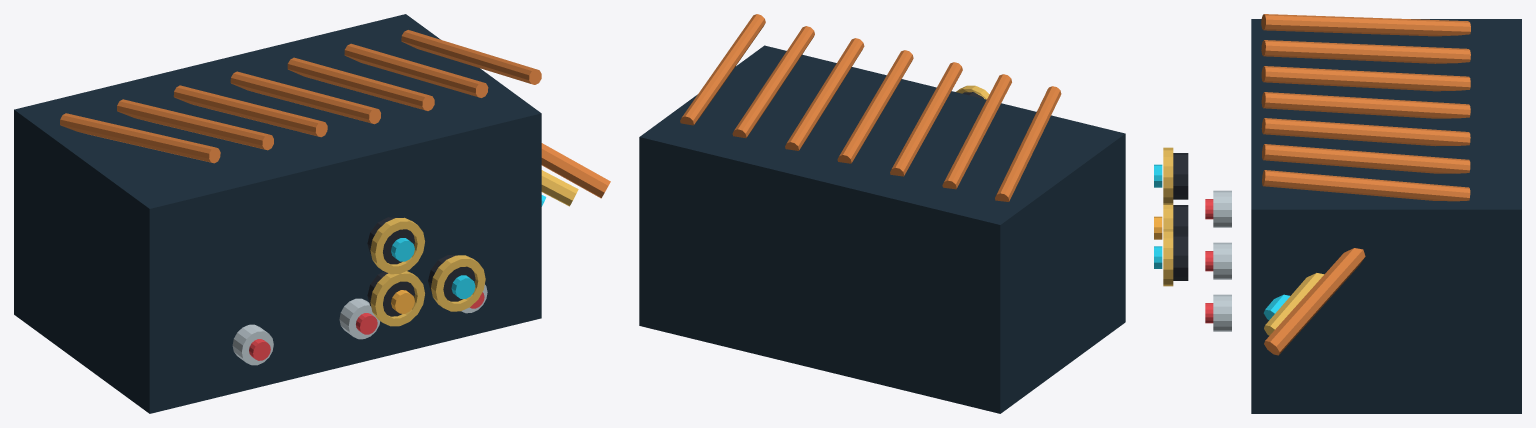
Rendered from 62_L82_CableInjectionFaultFixture.fbx.
3 views of the same model, side by side, from view 1: azimuth 30°, elevation 25°; view 2: azimuth 150°, elevation 25°; view 3: azimuth 270°, elevation 25° (orthographic). The views are drawn at different scales.
Parts seen in each view (by area): view 1: CableInjectionFaultFixture, CableInjectionFaultFixture_Part_0033, CableInjectionFaultFixture_Part_0030; view 2: CableInjectionFaultFixture; view 3: CableInjectionFaultFixture, CableInjectionFaultFixture_Part_0033, CableInjectionFaultFixture_Part_0030.
Boxes of the visible parts, bbox=[...] form: CableInjectionFaultFixture: bbox=[14, 14, 541, 413]; CableInjectionFaultFixture_Part_0033: bbox=[541, 143, 610, 198]; CableInjectionFaultFixture_Part_0030: bbox=[541, 170, 578, 206]; CableInjectionFaultFixture: bbox=[639, 14, 1125, 413]; CableInjectionFaultFixture: bbox=[1154, 14, 1521, 413]; CableInjectionFaultFixture_Part_0033: bbox=[1264, 248, 1365, 355]; CableInjectionFaultFixture_Part_0030: bbox=[1264, 273, 1324, 335].
Size of the model in its own units: 133 by 65.44 by 89.75.
